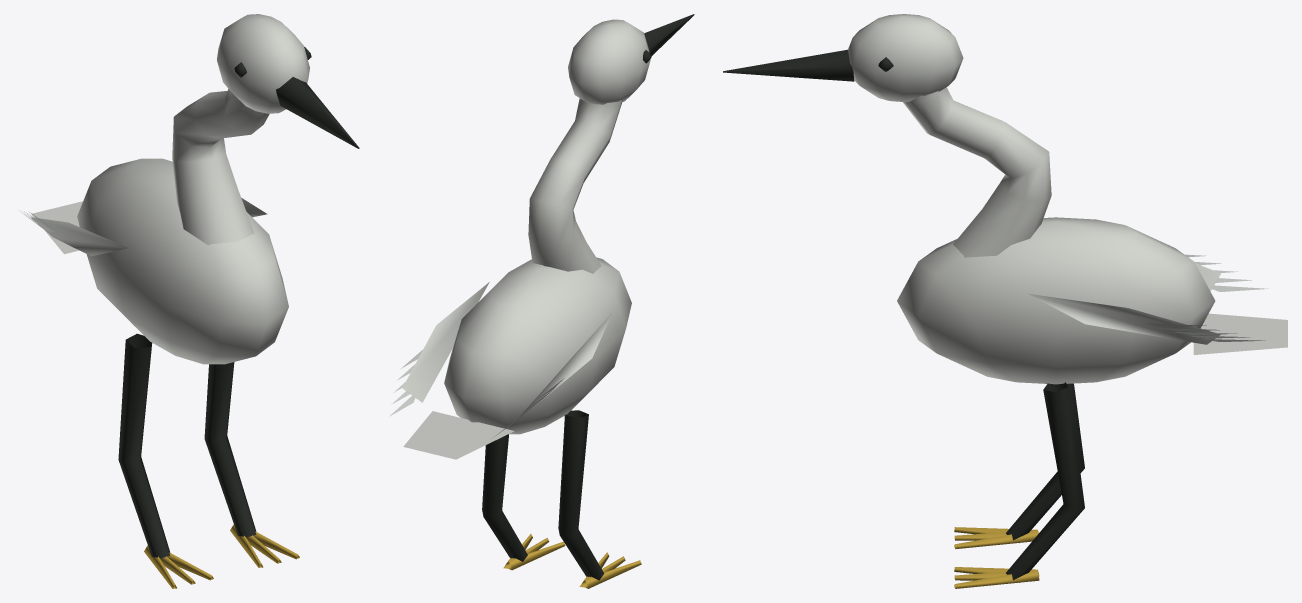
Rendered from egret-0.glb.
3 renders of one model, left to right at view 1: azimuth 30°, elevation 25°; view 2: azimuth 150°, elevation 25°; view 3: azimuth 270°, elevation 25°, orthographic. The views are drawn at different scales.
Parts seen in each view (by area): view 1: egret; view 2: egret; view 3: egret.
Part boxes in pixels (x1=…): egret: x1=21, y1=14, x2=359, y2=588; egret: x1=389, y1=14, x2=694, y2=588; egret: x1=723, y1=14, x2=1287, y2=588.
Size of the model in its own units: 0.1905 by 0.6811 by 0.6397.
